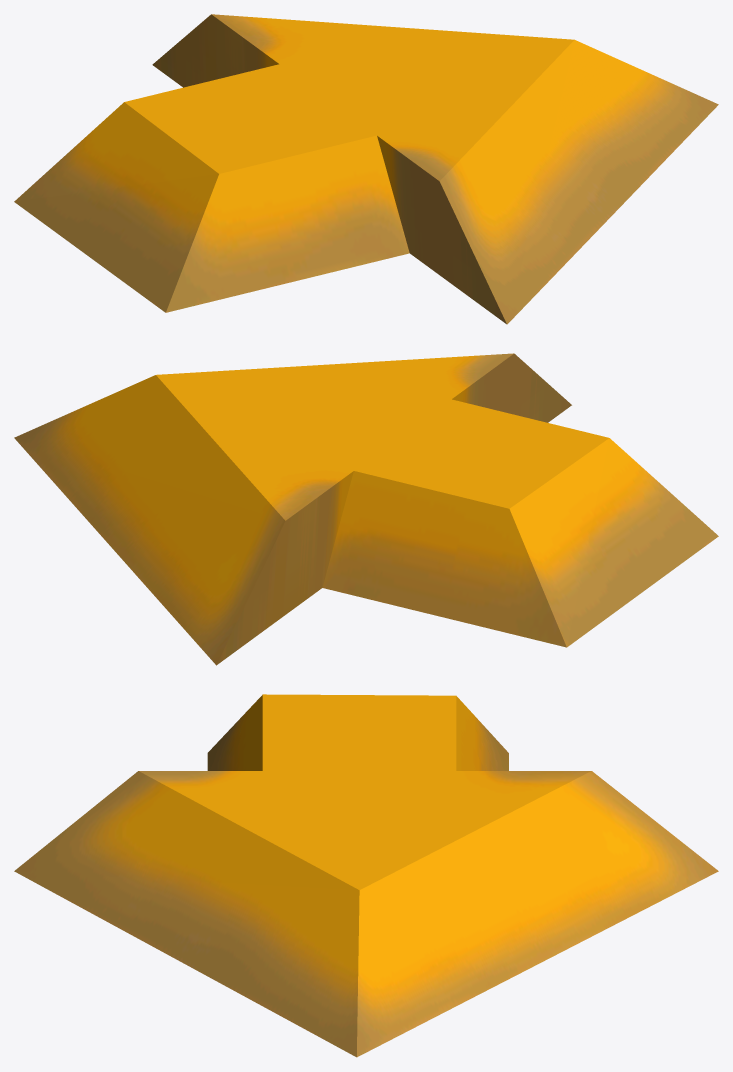
Rendered from Button.glb.
The picture shows the model from 3 angles, top to bottom: view 1: azimuth 30°, elevation 25°; view 2: azimuth 150°, elevation 25°; view 3: azimuth 270°, elevation 25°; orthographic projection.
Parts seen in each view (by area): view 1: Button; view 2: Button; view 3: Button.
Boxes of the visible parts, x1,y1,x2,y2 form: Button: (14,14,718,324); Button: (14,353,718,665); Button: (14,694,718,1057).
Size of the model in its own units: 262 by 39.27 by 256.
Materials: 1 (1 with a texture image).
